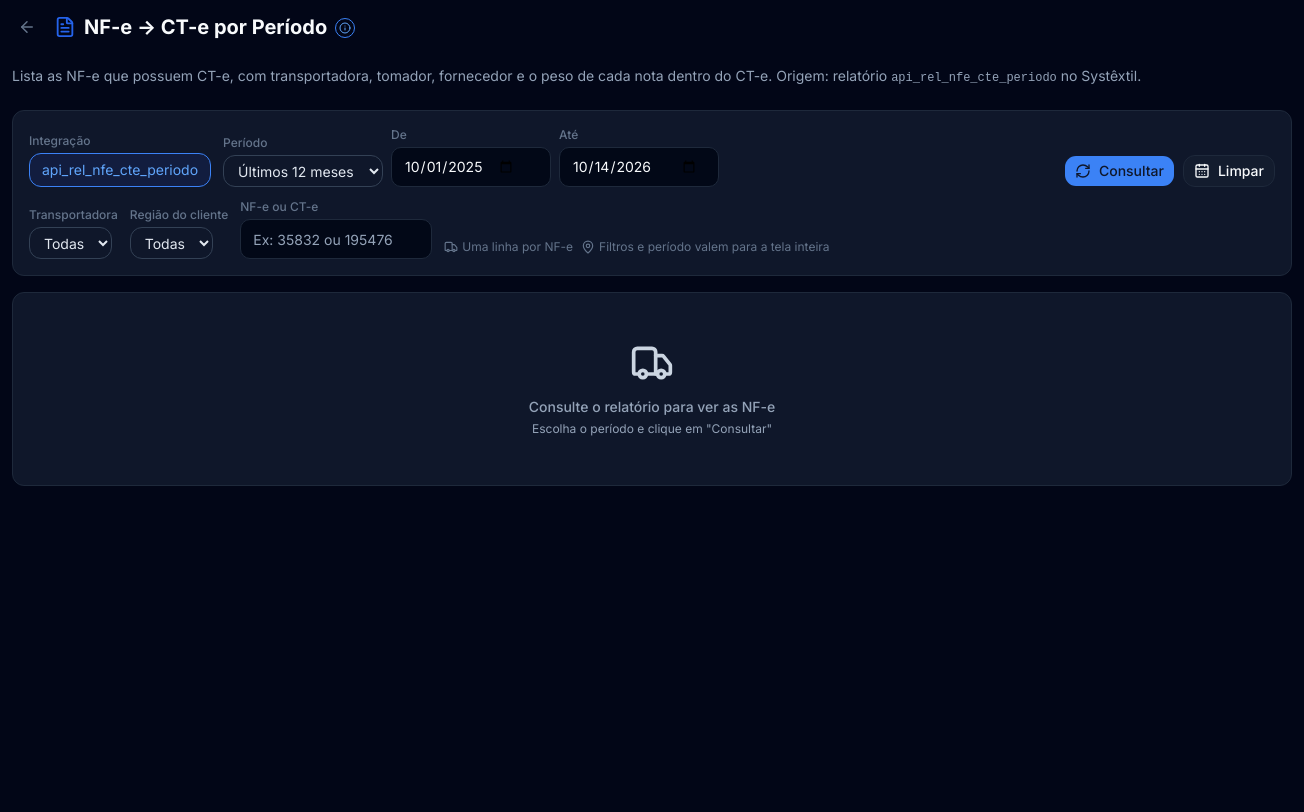
it: NfeCtePage › resume CT-es, NF-e com valor e rateio
Expected: the button "api_rel_nfe_cte_periodo" is shown, [29,153,211,187]
Click the button "Consultar": (1119, 171) [1064,155,1175,187]
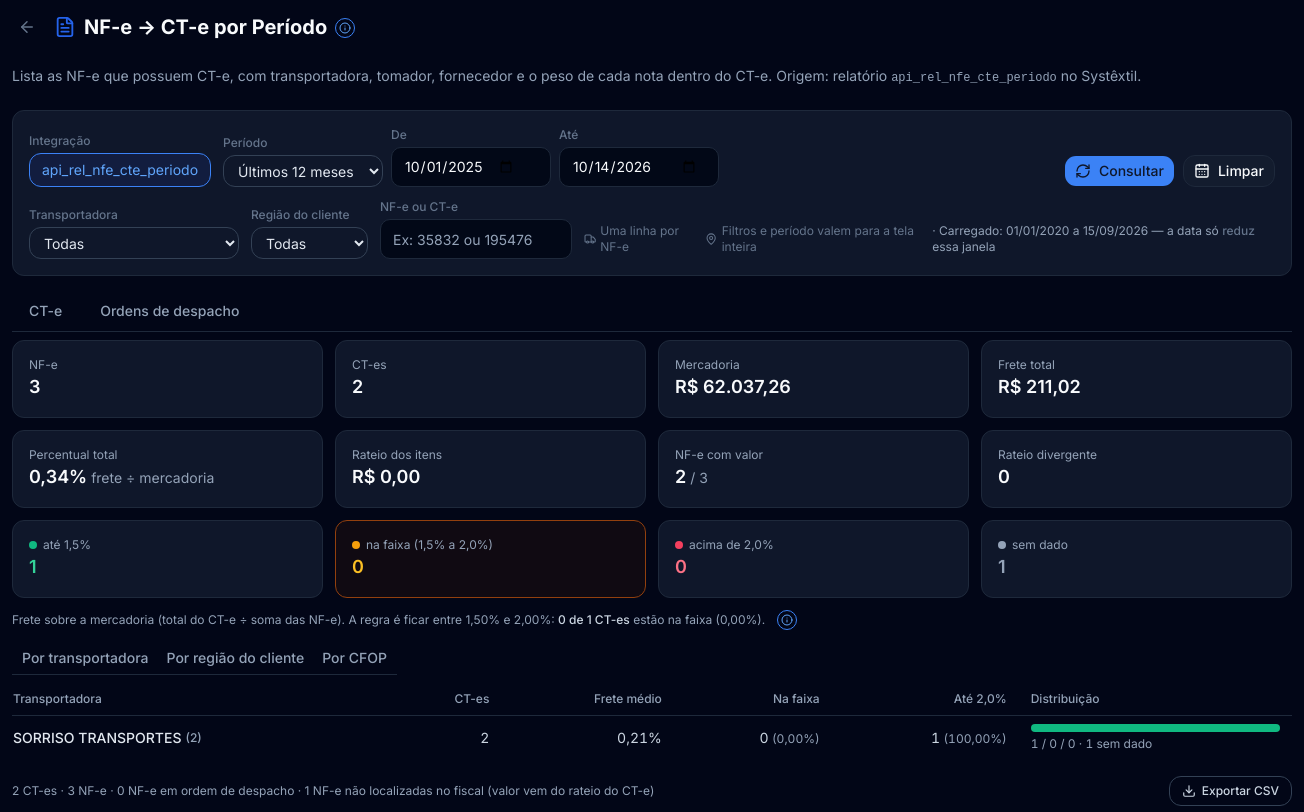
Expected: the text "NF-e com valor" is shown, [675,447,763,462]
Expected: the text "Frete total" is shown, [998,357,1055,372]
Expected: the text "Rateio dos itens" is shown, [352,447,442,462]
